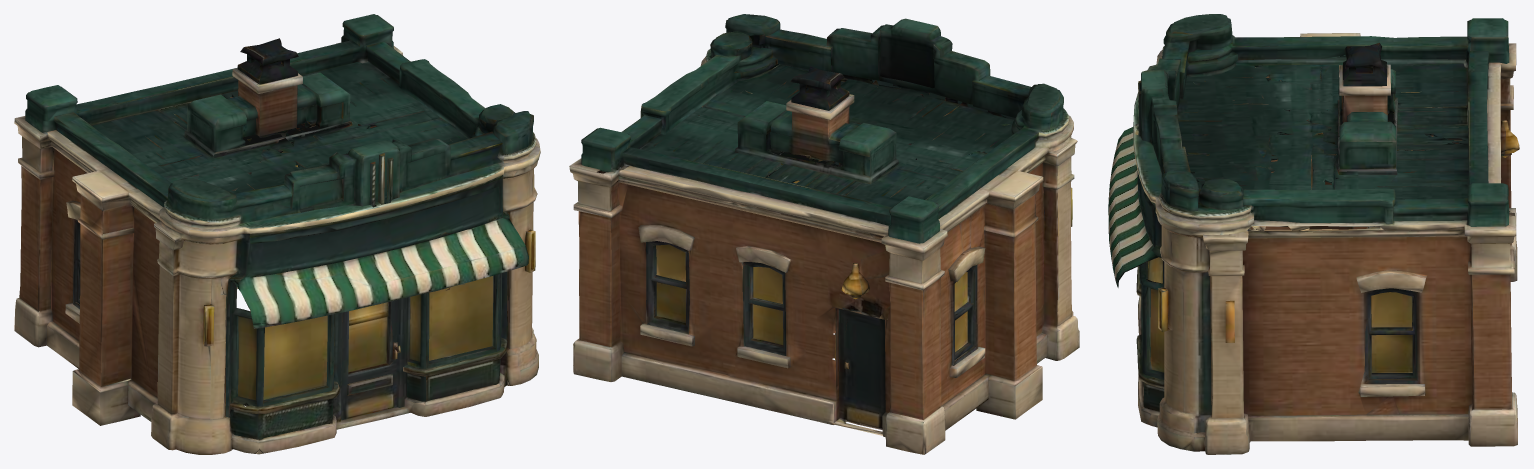
The picture shows the model from 3 angles, left to right: view 1: azimuth 30°, elevation 25°; view 2: azimuth 150°, elevation 25°; view 3: azimuth 270°, elevation 25°; orthographic projection. The views are drawn at different scales.
Parts seen in each view (by area): view 1: expansion__shop_1__native_mobile; view 2: expansion__shop_1__native_mobile; view 3: expansion__shop_1__native_mobile.
Boxes of the visible parts, x1,y1,x2,y2 form: expansion__shop_1__native_mobile: [14, 14, 540, 454]; expansion__shop_1__native_mobile: [569, 14, 1079, 454]; expansion__shop_1__native_mobile: [1108, 14, 1519, 454].
Size of the model in its own units: 1 by 0.7639 by 0.888.
1 material, 1 textured.
